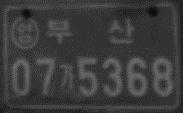0: (10, 57, 32, 98)
3: (100, 55, 123, 98)
5: (77, 53, 98, 98)
6: (124, 55, 148, 97)
7: (34, 56, 57, 99)
8: (150, 55, 175, 97)
가: (57, 63, 77, 94)
부산_D: (45, 15, 137, 47)
영: (10, 15, 40, 50)
